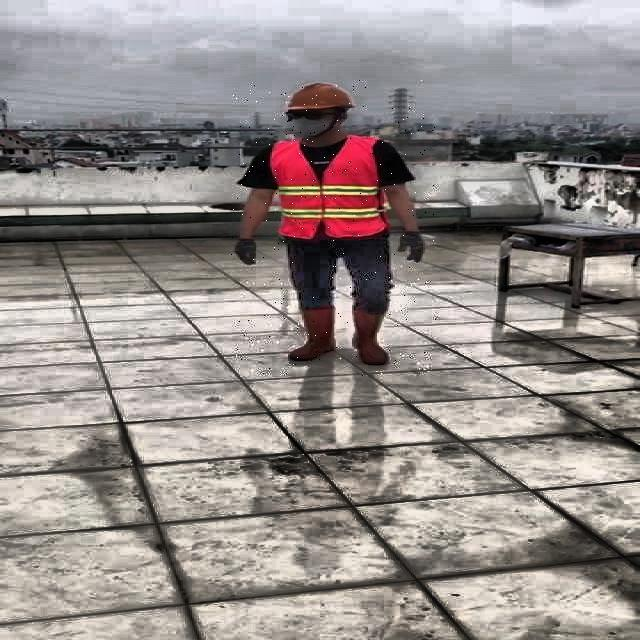safety_helmet: (284, 79, 358, 113)
safety_jacket: (272, 138, 388, 237)
